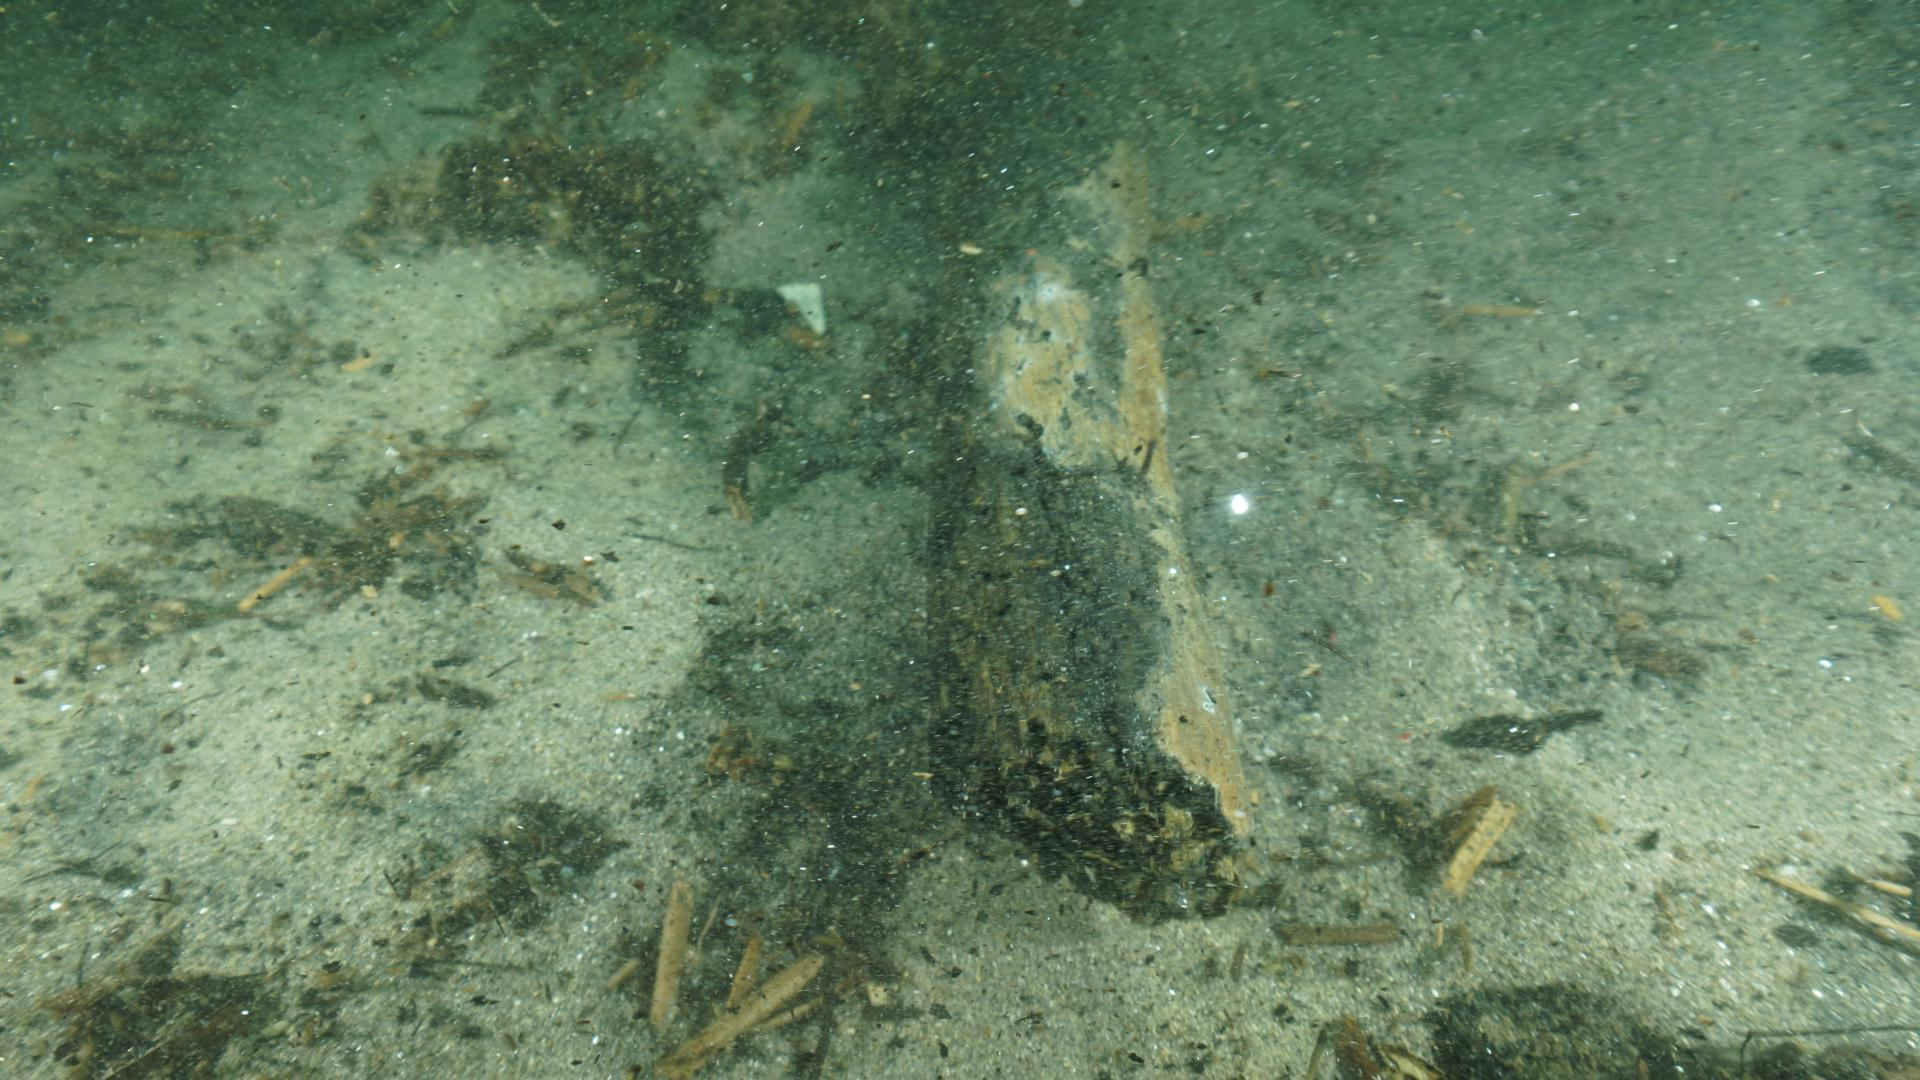wood: (916, 0, 1251, 924)
